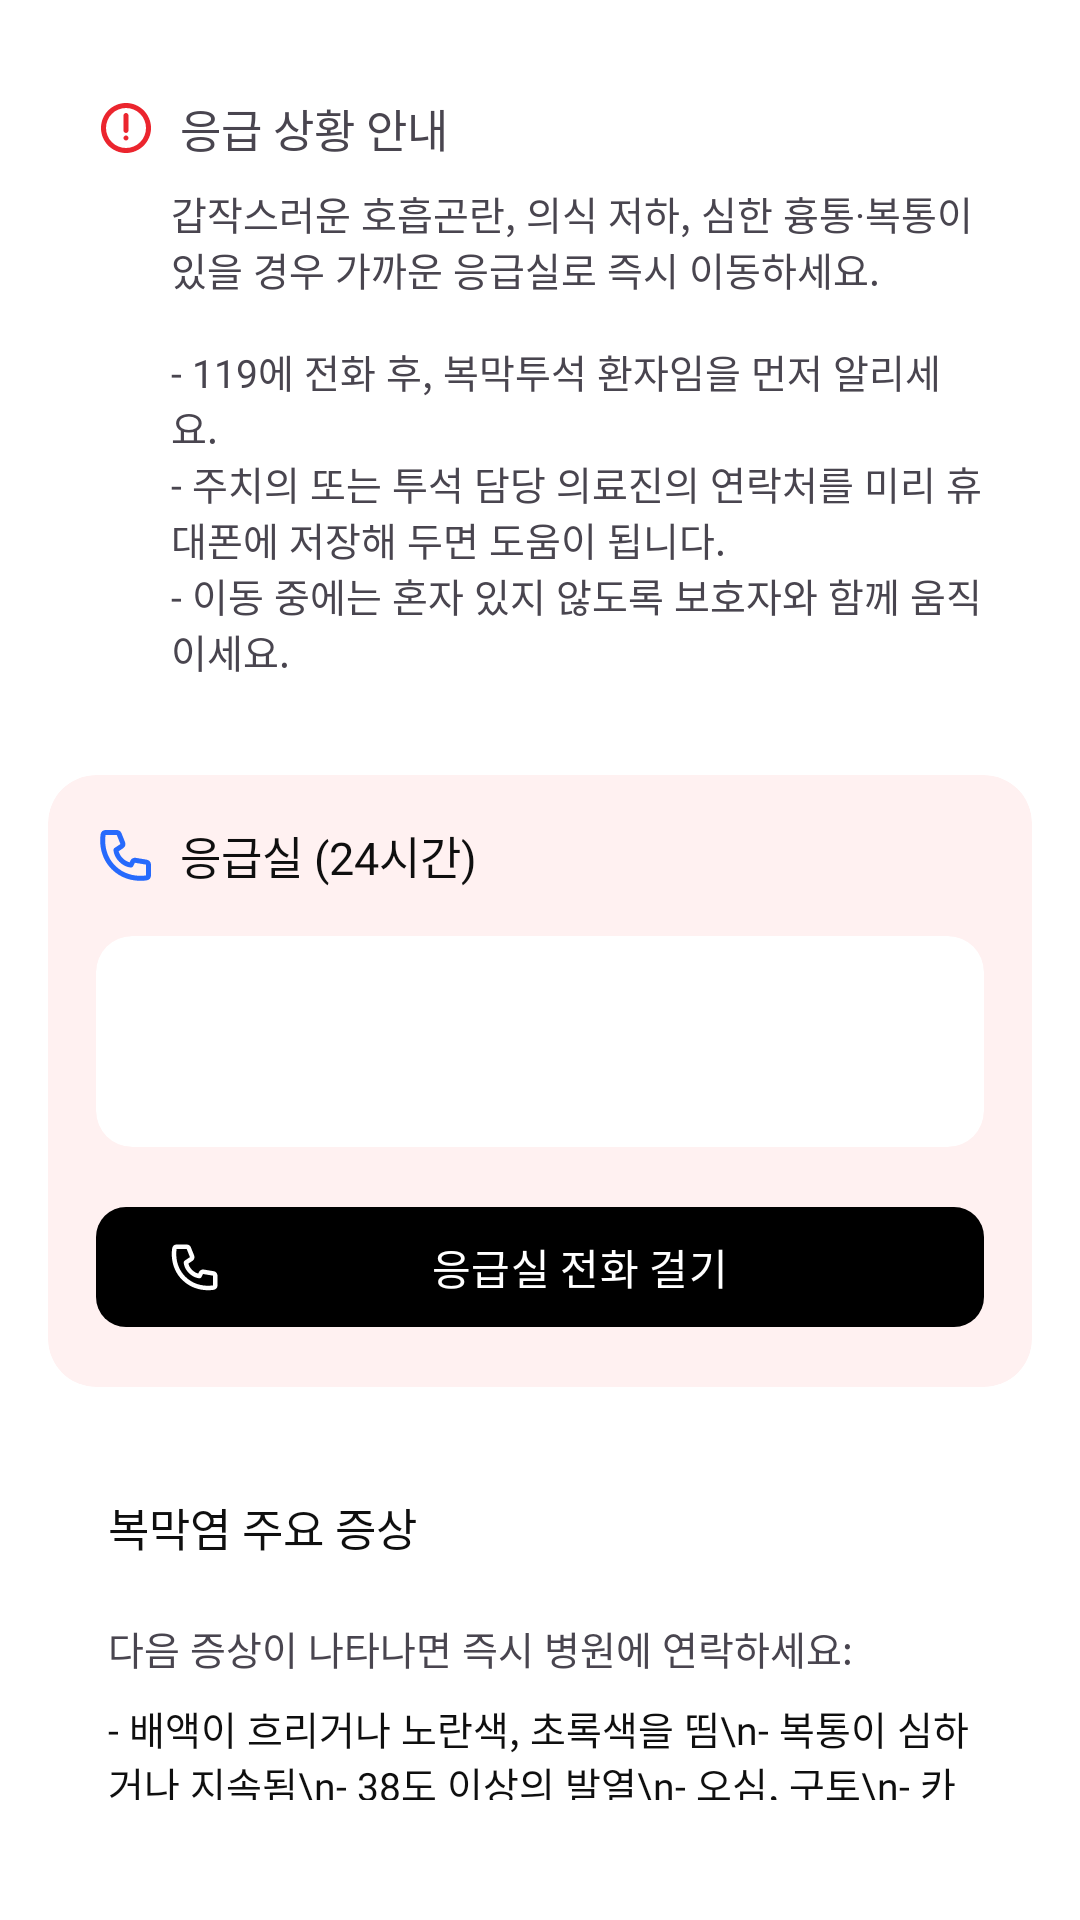

Named icons in this screenshot (1080x1920) and their bounding boxes, (x1, y1, x2, y2):
call sv: (100, 830, 151, 881)
warning sv: (101, 103, 151, 153)
